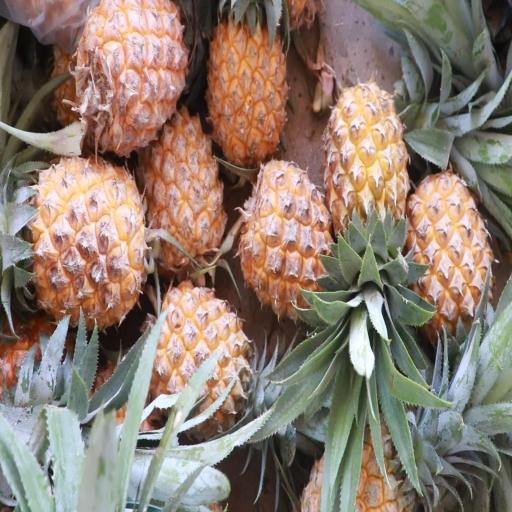Pineapple - v8 v1: (0, 150, 151, 328), (72, 0, 191, 163), (138, 275, 254, 433), (401, 168, 495, 356), (238, 157, 341, 326), (323, 78, 411, 275), (138, 104, 229, 281), (204, 0, 288, 184)
